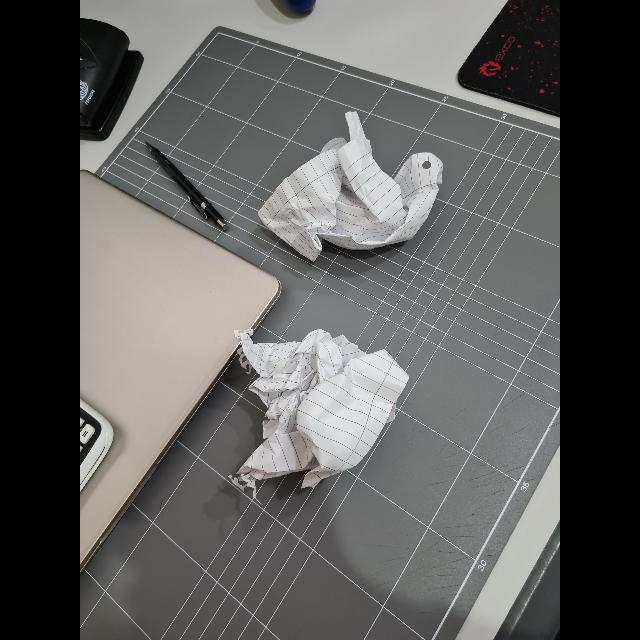scrap_paper: (235, 329, 405, 491), (263, 115, 449, 261)
